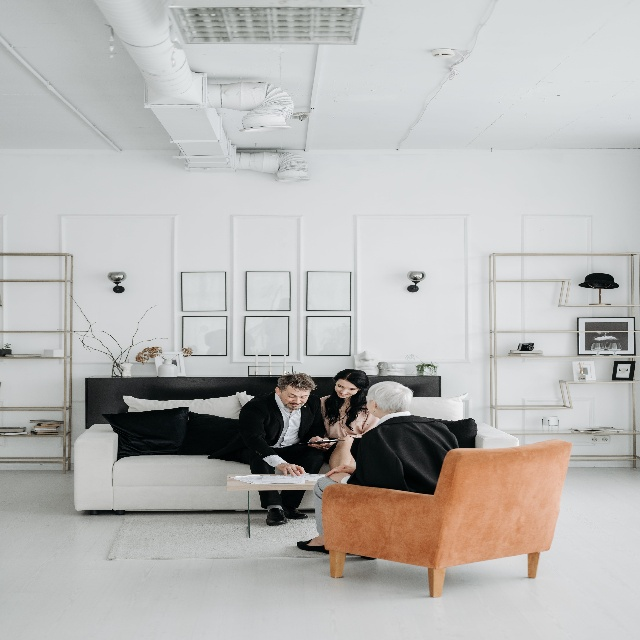Sin_guantes: (325, 461, 353, 480), (281, 460, 305, 479)
